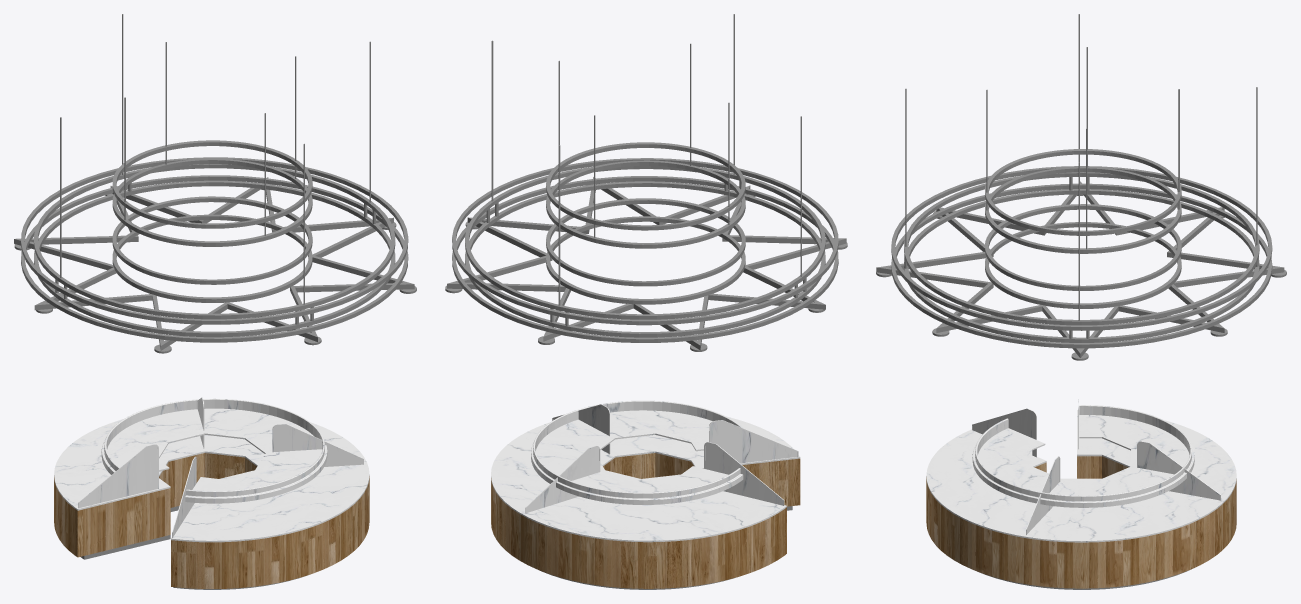
File: sheiChaTai.glb
3 views of the same model, side by side, from view 1: azimuth 30°, elevation 25°; view 2: azimuth 150°, elevation 25°; view 3: azimuth 270°, elevation 25° (orthographic).
Visible parts, largest first — view 1: shuSiDaoTan; view 2: shuSiDaoTan; view 3: shuSiDaoTan.
Boxes of the visible parts, bbox=[...] form: shuSiDaoTan: bbox=[14, 14, 416, 589]; shuSiDaoTan: bbox=[445, 14, 847, 589]; shuSiDaoTan: bbox=[876, 14, 1286, 589].
Size of the model in its own units: 4.36 by 5.17 by 4.37.
4 materials, 2 textured.
